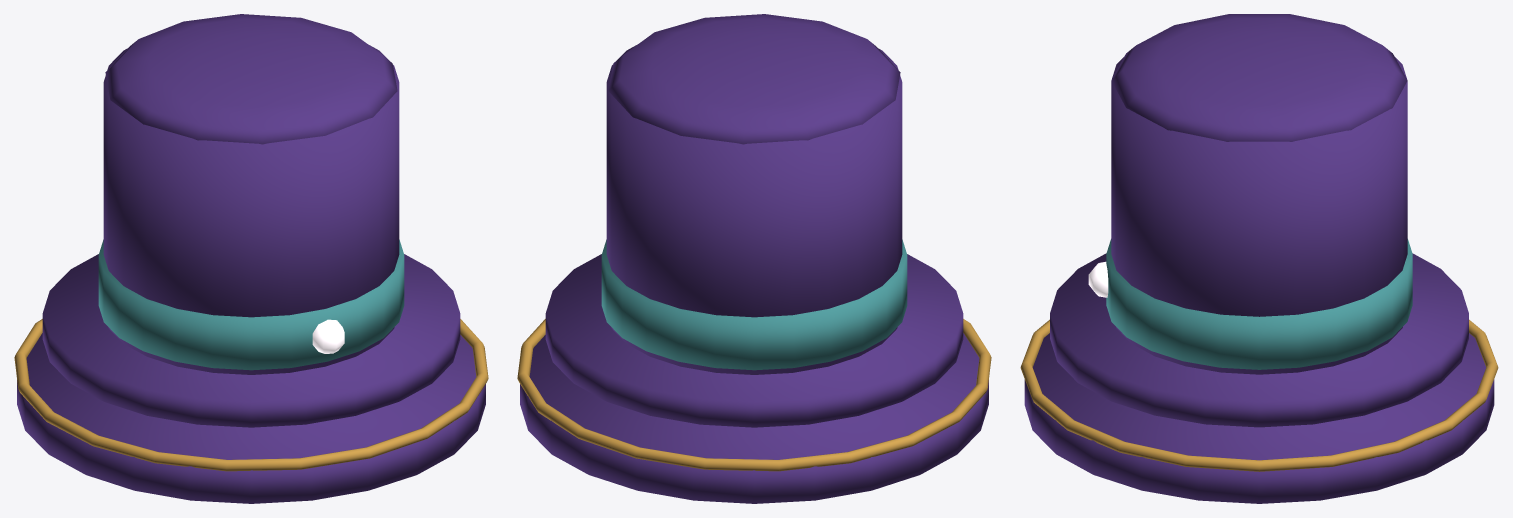
File: opera_magician_hat_1.glb
The picture shows the model from 3 angles, left to right: view 1: azimuth 30°, elevation 25°; view 2: azimuth 150°, elevation 25°; view 3: azimuth 270°, elevation 25°; orthographic projection.
Parts seen in each view (by area): view 1: VisualMesh.001; view 2: VisualMesh.001; view 3: VisualMesh.001.
Boxes of the visible parts, x1,y1,x2,y2 form: VisualMesh.001: (14,14,488,503); VisualMesh.001: (517,14,991,503); VisualMesh.001: (1020,14,1498,503).
Bounding box in the file's own units: 4.68 × 3.79 × 4.68.
